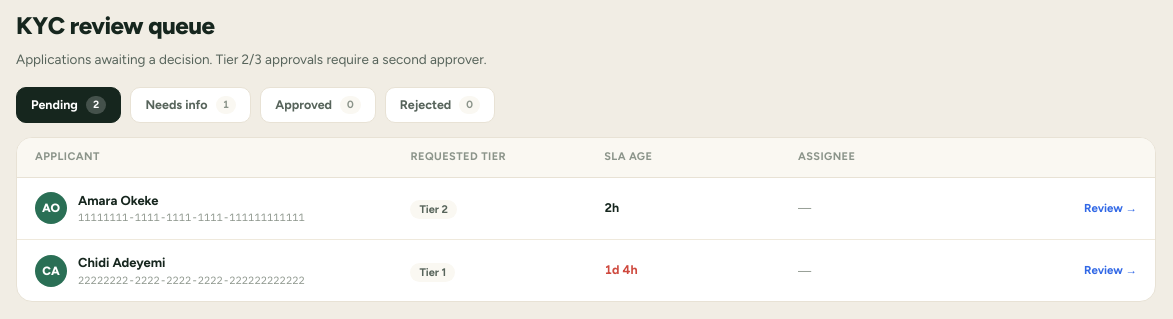
Test: KycReviewPage › queries the needs_info bucket (not pending) for the Needs-info tab
Expected: the text "Amara Okeke" is shown, [78,193,158,208]
Click the tab "Needs info 1" at (191,105), box [130,87,251,123]
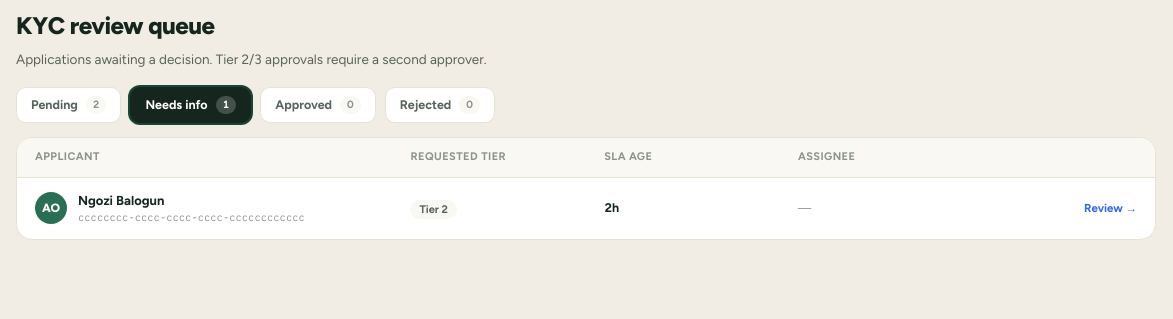
Result: the text "Ngozi Balogun" is shown at [78,193,164,208]
